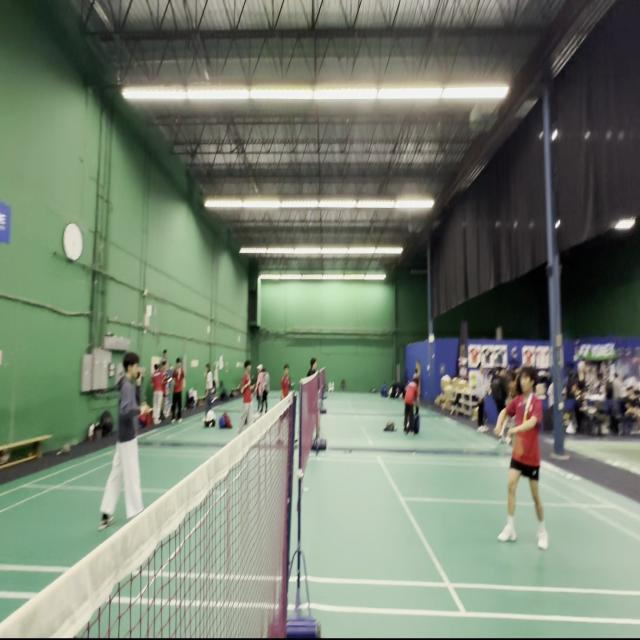shuttlecock: (504, 436, 514, 446)
